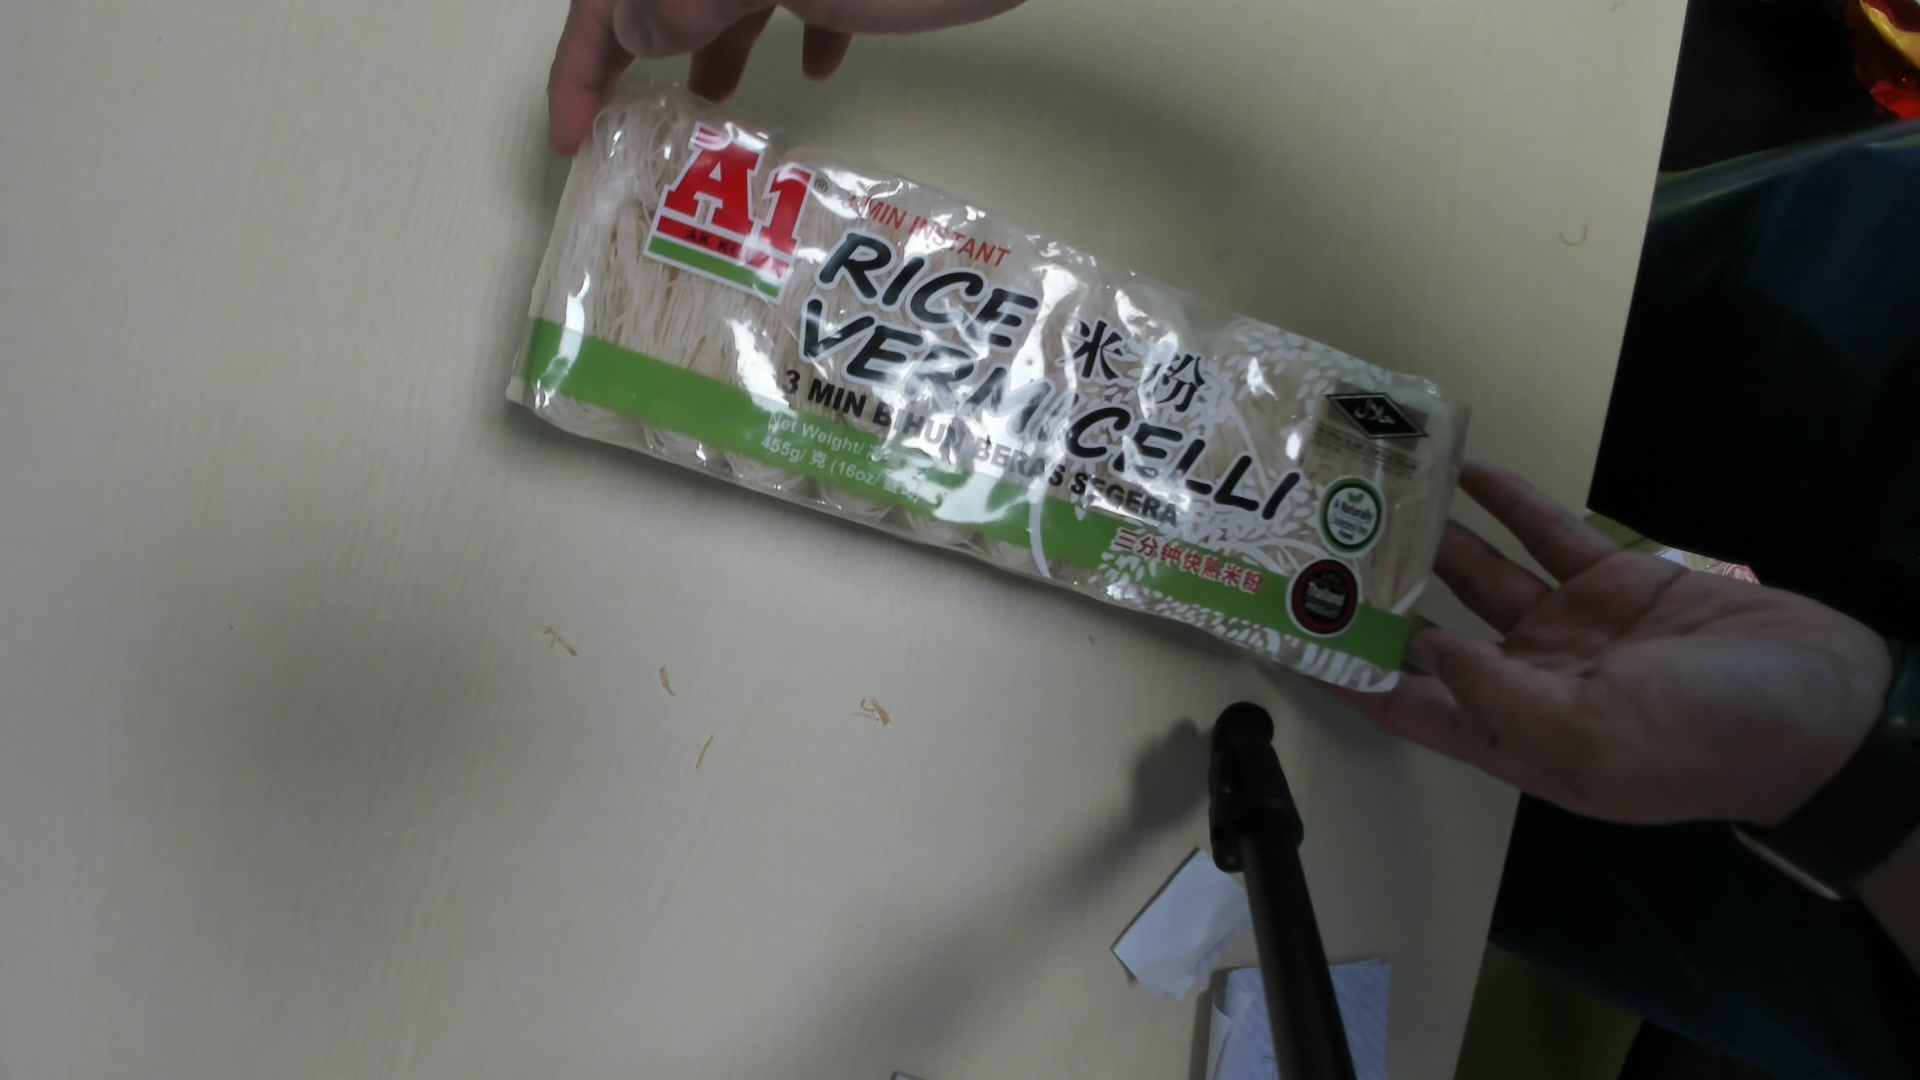BeeHoonVermicelli_400-499g_Halal_NonHealthy: (502, 86, 1468, 702)
